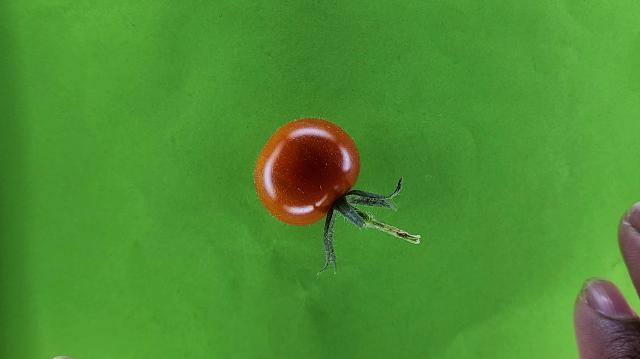Fully Grown: (252, 116, 362, 226)
